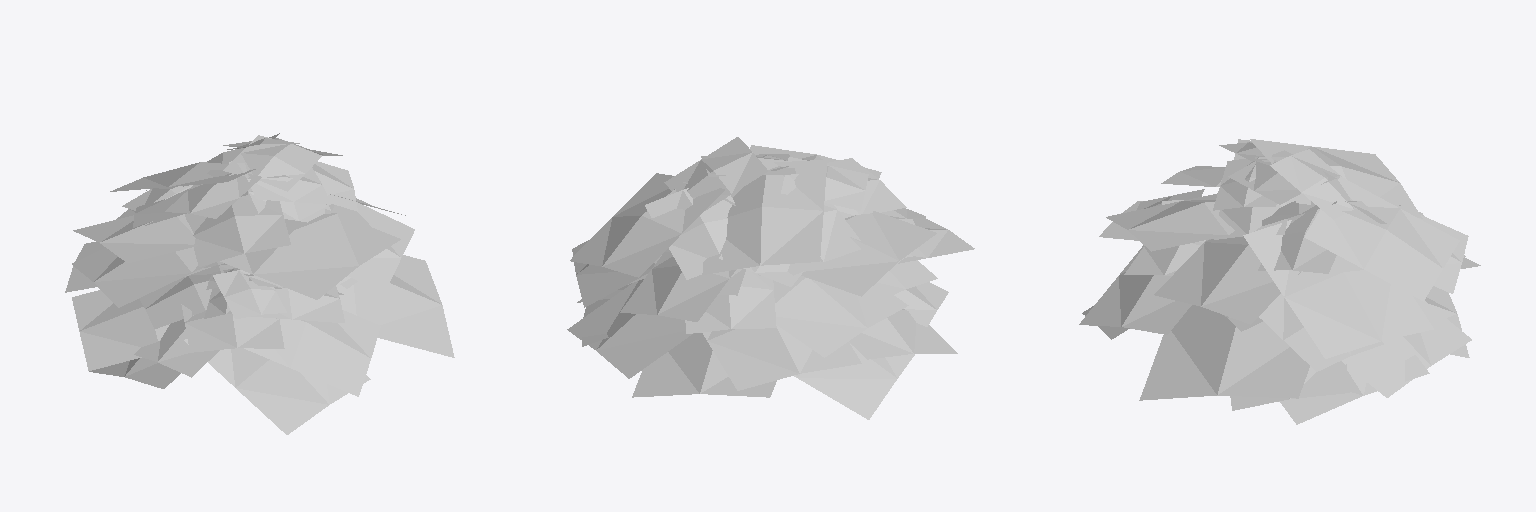
Rendered from oakleaves0.obj.
The picture shows the model from 3 angles: view 1: azimuth 30°, elevation 25°; view 2: azimuth 150°, elevation 25°; view 3: azimuth 270°, elevation 25°; orthographic projection.
Size of the model in its own units: 10.98 by 6.3 by 10.7.